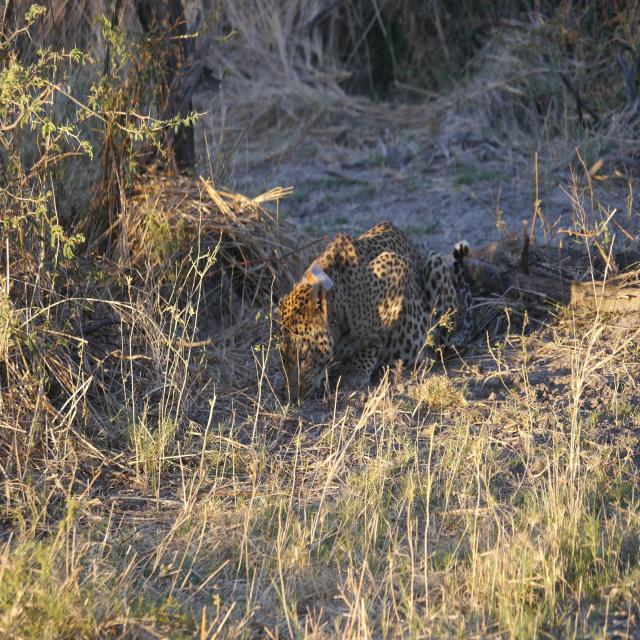Leopard: (268, 220, 470, 407)
